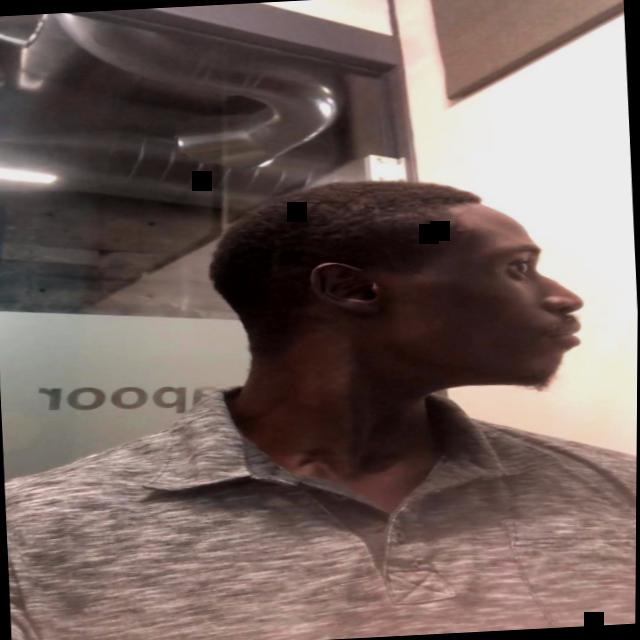NO-Mask: (317, 200, 591, 401)
